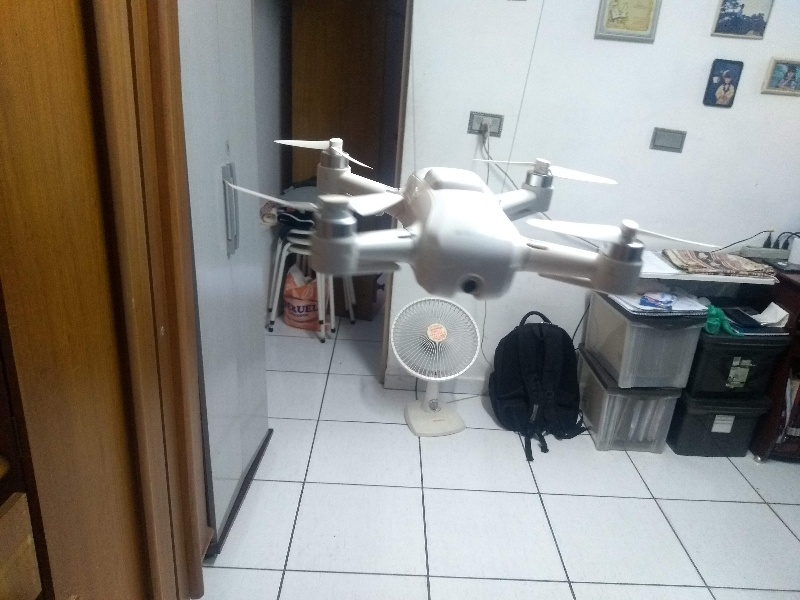drone: (236, 128, 710, 313)
